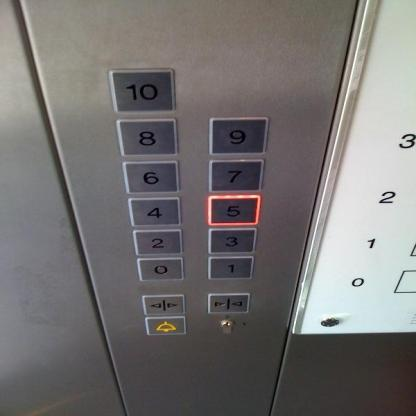0: (135, 257, 183, 281)
1: (207, 257, 254, 280)
10: (108, 69, 176, 112)
2: (131, 229, 184, 256)
3: (207, 228, 255, 253)
4: (128, 197, 182, 226)
5: (207, 195, 260, 225)
6: (121, 160, 180, 194)
7: (206, 158, 263, 192)
8: (114, 117, 178, 156)
9: (208, 116, 268, 154)
alarm: (144, 317, 185, 335)
close: (207, 293, 250, 314)
keyhole: (218, 318, 235, 334)
open: (142, 294, 184, 315)
